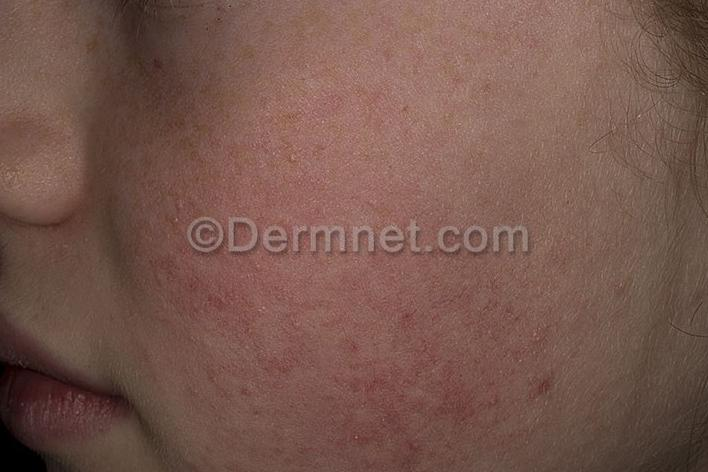Eritema 2: (133, 96, 572, 472)
edema 1: (175, 263, 554, 452)
